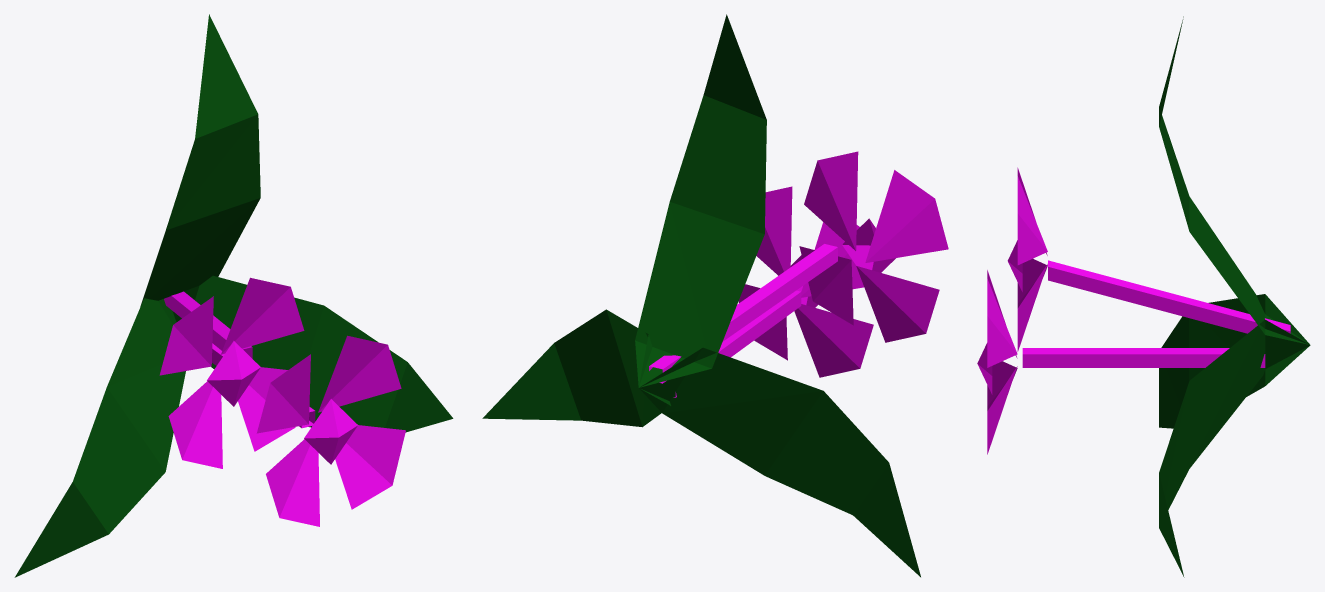
The model's file is flower.obj.
3 renders of one model, left to right at view 1: azimuth 30°, elevation 25°; view 2: azimuth 150°, elevation 25°; view 3: azimuth 270°, elevation 25°, orthographic. The views are drawn at different scales.
Parts seen in each view (by area): view 1: flower; view 2: flower; view 3: flower.
Part boxes in pixels (bbox=[...]): flower: bbox=[14, 14, 453, 577]; flower: bbox=[482, 14, 948, 577]; flower: bbox=[977, 16, 1310, 577].
Bounding box in the file's own units: 0.97 × 1.09 × 0.66.
